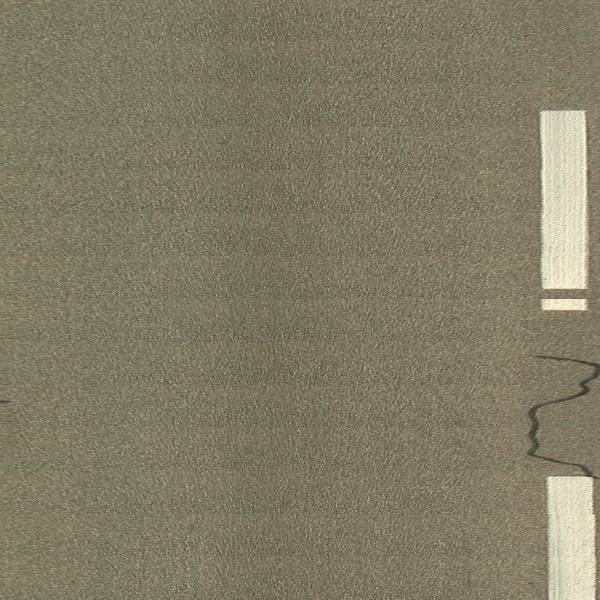road_damage: (523, 349, 600, 475)
